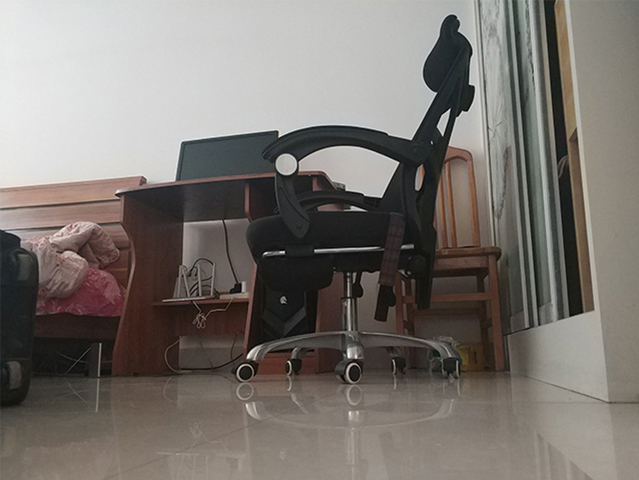bed: (1, 171, 148, 379)
cabinet: (469, 1, 638, 405), (107, 168, 350, 378)
stool: (232, 12, 477, 386), (386, 144, 508, 373)
wire: (157, 219, 248, 377)
